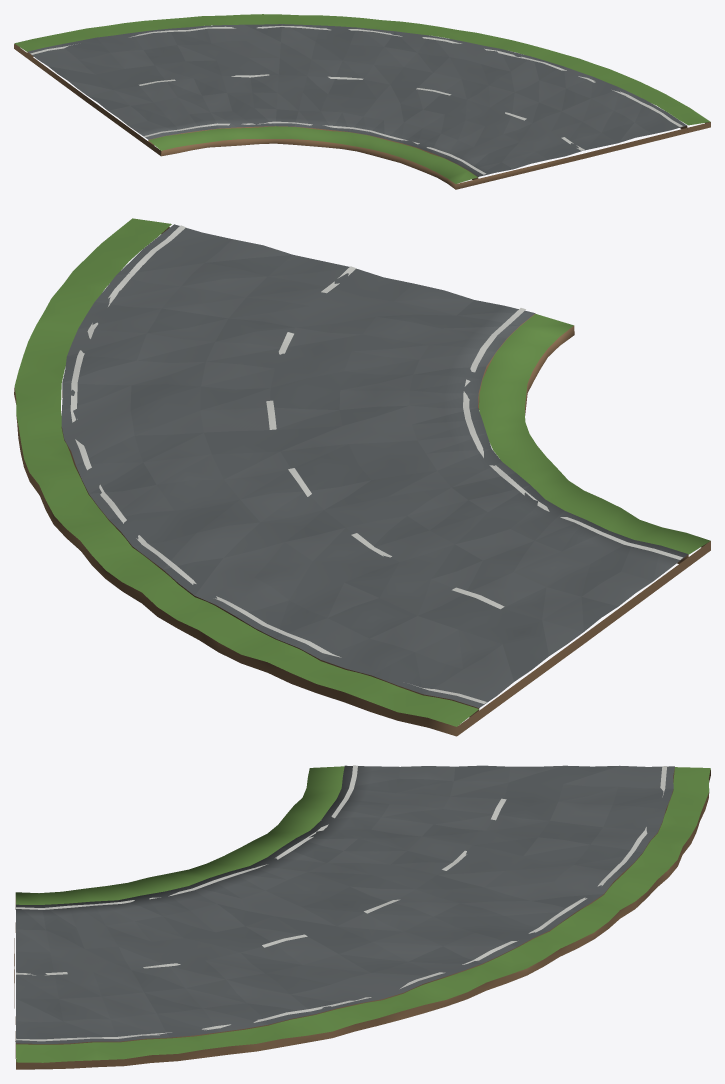
The model's file is asphalt_curve.glb.
3 renders of one model, top to bottom at view 1: azimuth 30°, elevation 25°; view 2: azimuth 150°, elevation 25°; view 3: azimuth 270°, elevation 25°, orthographic. The views are drawn at different scales.
Visible parts, largest first — view 1: Body.005; view 2: Body.005; view 3: Body.005.
Boxes of the visible parts, left/top/right/bottom form: Body.005: left=14, top=14, right=710, bottom=189; Body.005: left=14, top=218, right=710, bottom=736; Body.005: left=14, top=765, right=710, bottom=1069.
Bounding box in the file's own units: 12.65 × 0.229 × 12.65.
